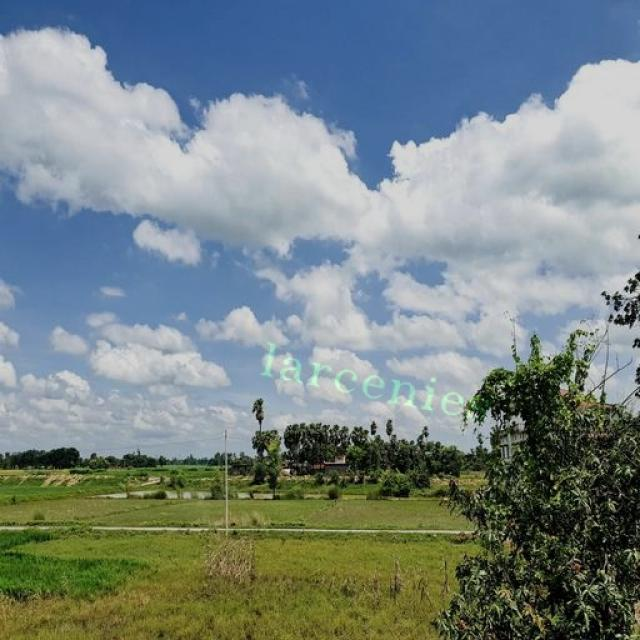watermark: (246, 339, 520, 430)
